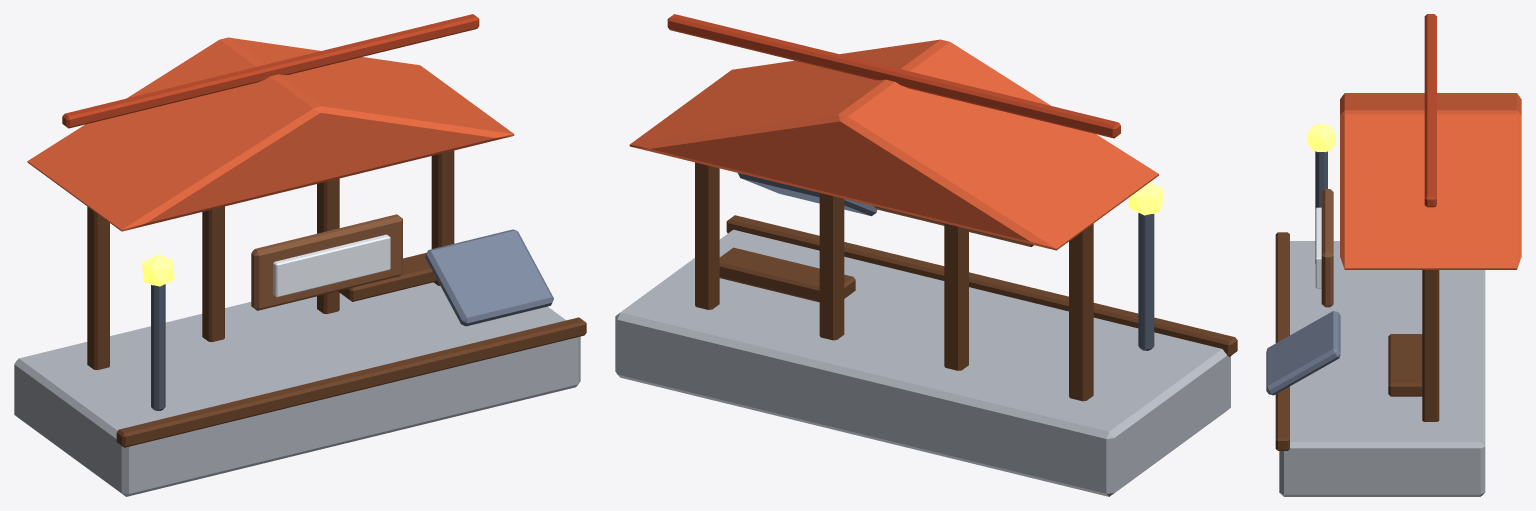
The model's file is SM_Building_Station.fbx.
3 renders of one model, left to right at view 1: azimuth 30°, elevation 25°; view 2: azimuth 150°, elevation 25°; view 3: azimuth 270°, elevation 25°, orthographic. The views are drawn at different scales.
Parts seen in each view (by area): view 1: SM_Building_Station; view 2: SM_Building_Station; view 3: SM_Building_Station.
Part boxes in pixels (box(x1,y1,x2,y2)): SM_Building_Station: box(14, 14, 586, 496); SM_Building_Station: box(615, 14, 1237, 496); SM_Building_Station: box(1266, 14, 1521, 496).
Size of the model in its own units: 4.05 by 2.65 by 2.11.
